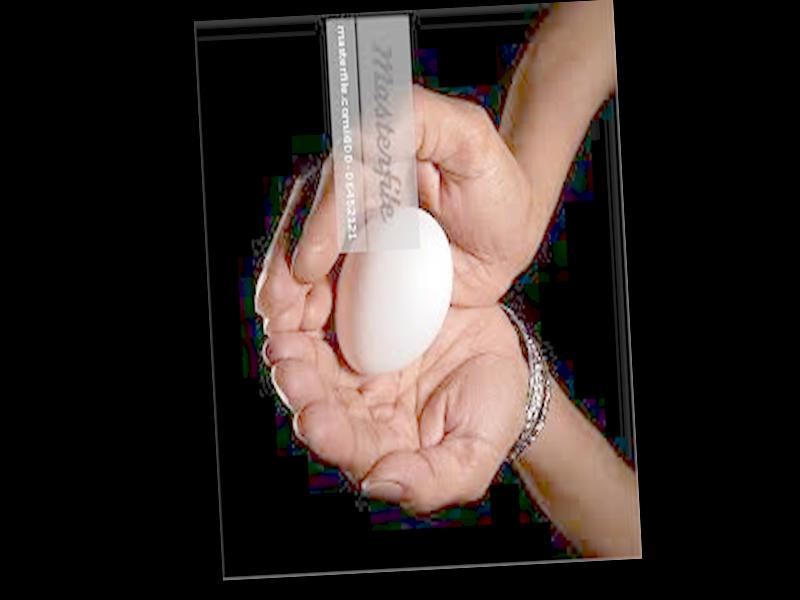Eggs: (328, 210, 456, 378)
